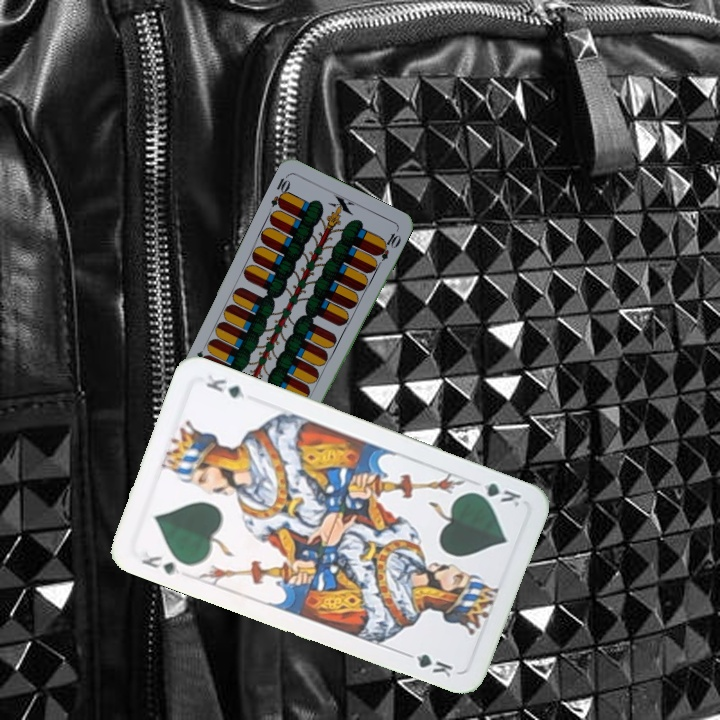E10: (267, 171, 293, 211)
GK: (466, 479, 524, 510), (138, 547, 184, 578)
